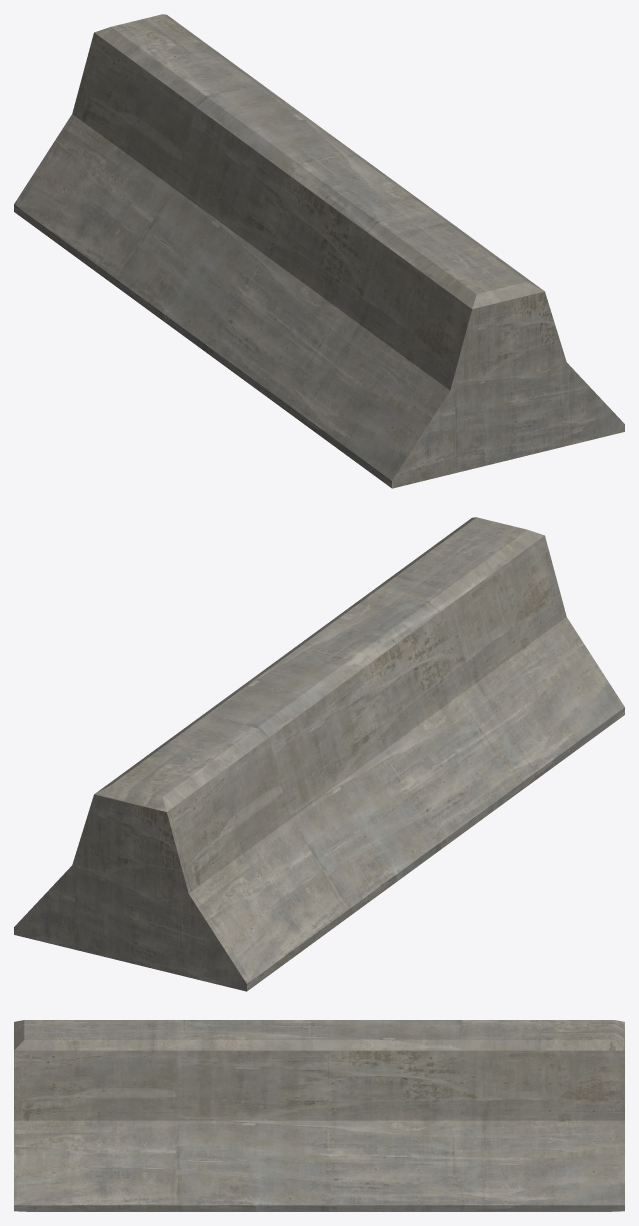
File: roadblock.fbx
3 renders of one model, top to bottom at view 1: azimuth 30°, elevation 25°; view 2: azimuth 150°, elevation 25°; view 3: azimuth 270°, elevation 25°, orthographic. The views are drawn at different scales.
Parts seen in each view (by area): view 1: Cube; view 2: Cube; view 3: Cube.
Part boxes in pixels (x1,y1,x2,y2): Cube: (14,14,624,488); Cube: (14,517,624,991); Cube: (14,1020,624,1211).
Bounding box in the file's own units: 64 × 46 × 180.
1 material, 1 textured.
